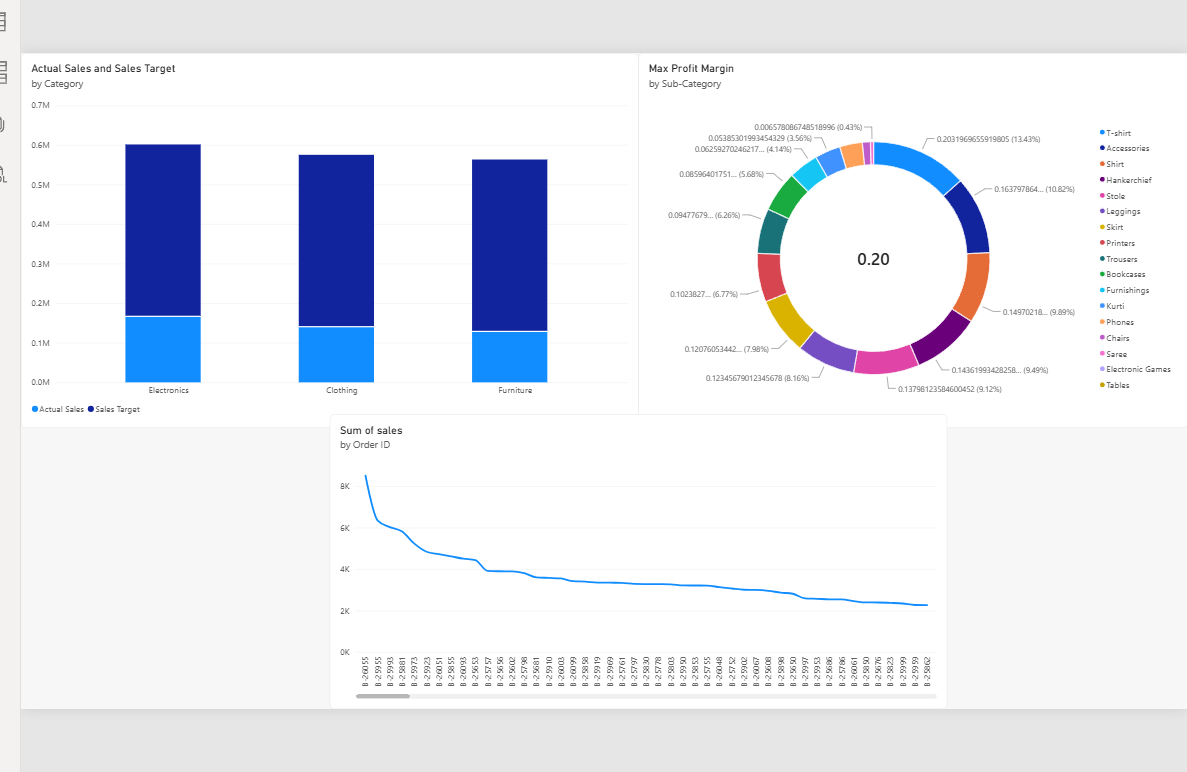

The dashboard page shown, as its layout file describes it:
{"tool":"powerbi","page":{"name":"Data Visualization","canvas":[1920,1080],"ordinal":1},"visuals":[{"type":"columnChart","fields":{"Category":["Order Details.Category"],"Y":["Order Details.Actual Sales","Sales target.Sales Target"]},"box":[0,0,1016.8,617.5],"z":0},{"type":"donutChart","fields":{"Category":["Order Details.Sub-Category"],"Y":["Order Details.Max Profit Margin"]},"box":[1016.8,0,903.6,617.5],"z":1000},{"type":"lineChart","fields":{"Category":["Monthly Sales Data.Order ID"],"Y":["Sum(Monthly Sales Data.sales)"]},"box":[508.4,594.9,1016.8,485.8],"z":2000}]}

Visuals, with their boxes on the page's 1920x1080 design canvas (x1, y1, x2, y2). These are canvas units, not pixel positions in the 1187x772 screenshot, which may show the page scaled, cropped or inside an application window:
columnChart - Order Details.Category x Order Details.Actual Sales: {"left": 0, "top": 0, "right": 1017, "bottom": 618}
donutChart - Order Details.Sub-Category x Order Details.Max Profit Margin: {"left": 1017, "top": 0, "right": 1920, "bottom": 618}
lineChart - Monthly Sales Data.Order ID x Sum(Monthly Sales Data.sales): {"left": 508, "top": 595, "right": 1525, "bottom": 1081}
